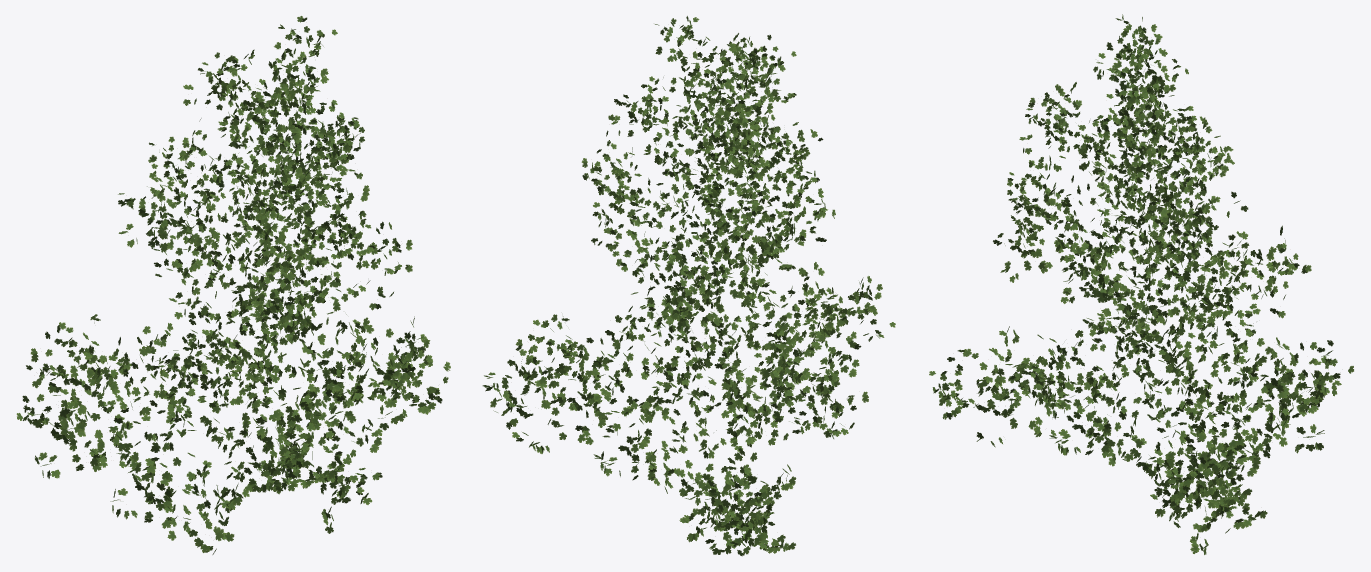
The model's file is MESH_EU01_AcerCampestre_Y_LOD2.fbx.
3 renders of one model, left to right at view 1: azimuth 30°, elevation 25°; view 2: azimuth 150°, elevation 25°; view 3: azimuth 270°, elevation 25°, orthographic. The views are drawn at different scales.
Visible parts, largest first — view 1: MI_LOD2_001; view 2: MI_LOD2_001; view 3: MI_LOD2_001.
Boxes of the visible parts, x1=… form: MI_LOD2_001: x1=16, y1=16, x2=450, y2=554; MI_LOD2_001: x1=482, y1=16, x2=895, y2=556; MI_LOD2_001: x1=929, y1=14, x2=1353, y2=554.
Size of what is drawn, in the model's own units: 199 by 244 by 184.
